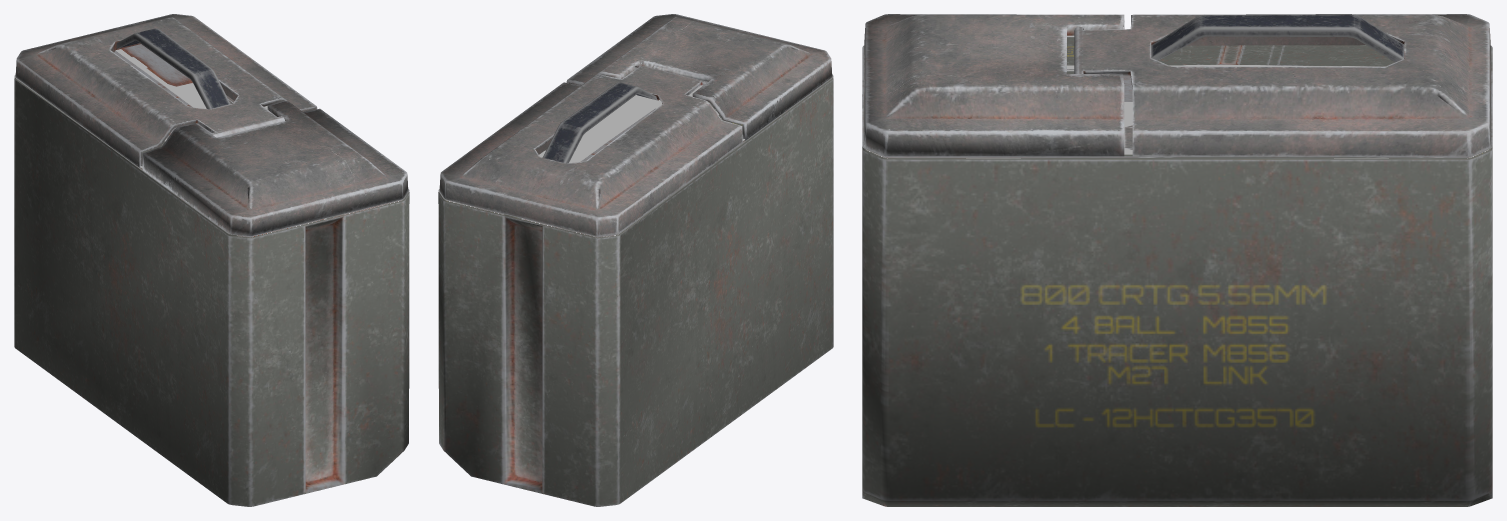
File: bag.fbx
3 views of the same model, side by side, from view 1: azimuth 30°, elevation 25°; view 2: azimuth 150°, elevation 25°; view 3: azimuth 270°, elevation 25° (orthographic). The views are drawn at different scales.
Visible parts, largest first — view 1: Object_0.001, Object_0.002; view 2: Object_0.001, Object_0.002; view 3: Object_0.001, Object_0.002.
Part boxes in pixels (x1=…): Object_0.001: x1=14, y1=77, x2=409, y2=506; Object_0.002: x1=14, y1=14, x2=409, y2=236; Object_0.001: x1=438, y1=77, x2=833, y2=506; Object_0.002: x1=438, y1=14, x2=833, y2=236; Object_0.001: x1=862, y1=94, x2=1492, y2=506; Object_0.002: x1=862, y1=14, x2=1492, y2=157.
Bounding box in the file's own units: 2225 × 3825 × 4917.
1 material, 1 textured.
